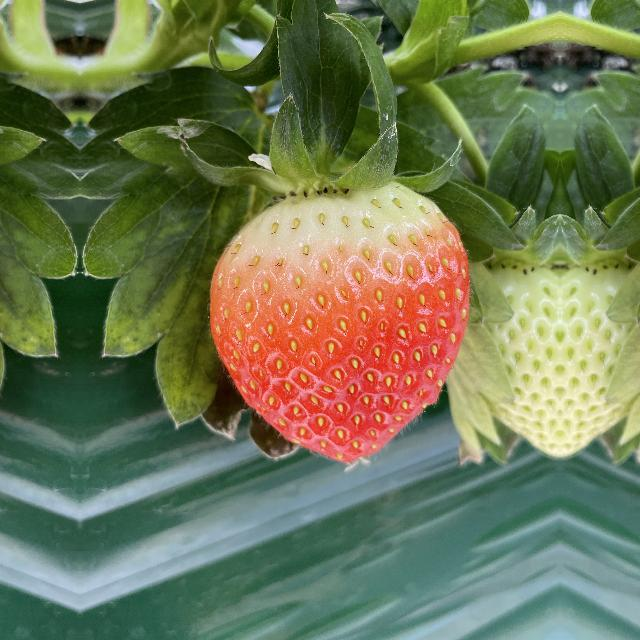Health_100: (188, 184, 482, 472)
